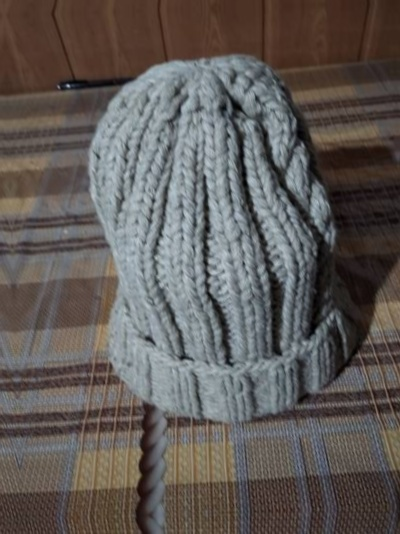Hat: (56, 39, 382, 429)
